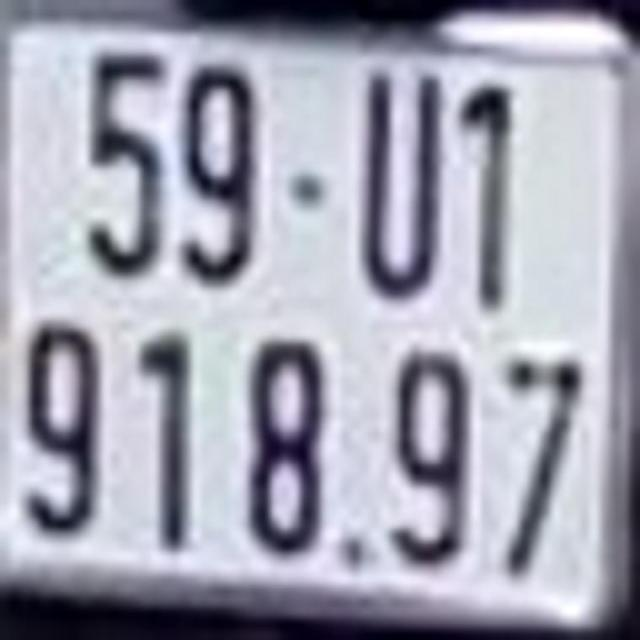1: (128, 321, 202, 553), (454, 73, 516, 314)
5: (84, 46, 173, 284)
7: (496, 342, 584, 582)
8: (241, 330, 331, 556)
9: (179, 56, 266, 289), (390, 340, 474, 570), (22, 312, 102, 540)
U: (358, 61, 450, 302)
